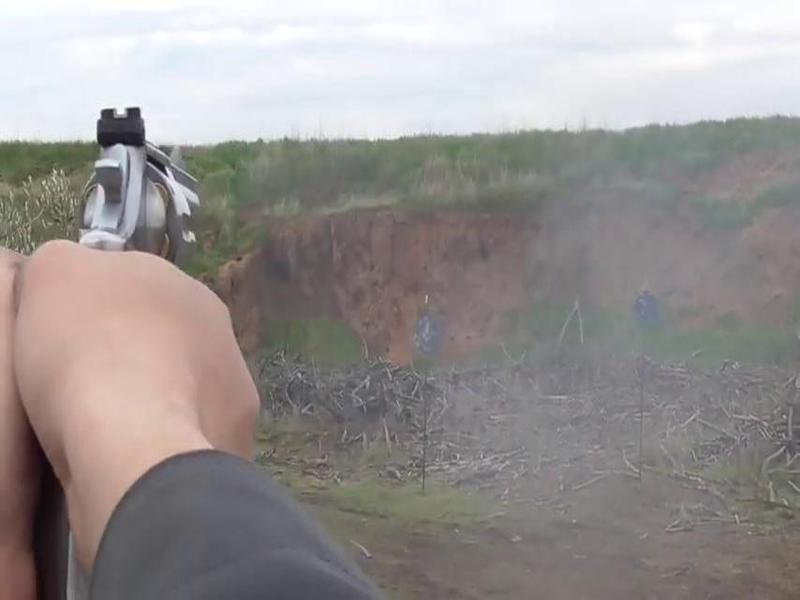Revolver: (68, 97, 212, 304)
